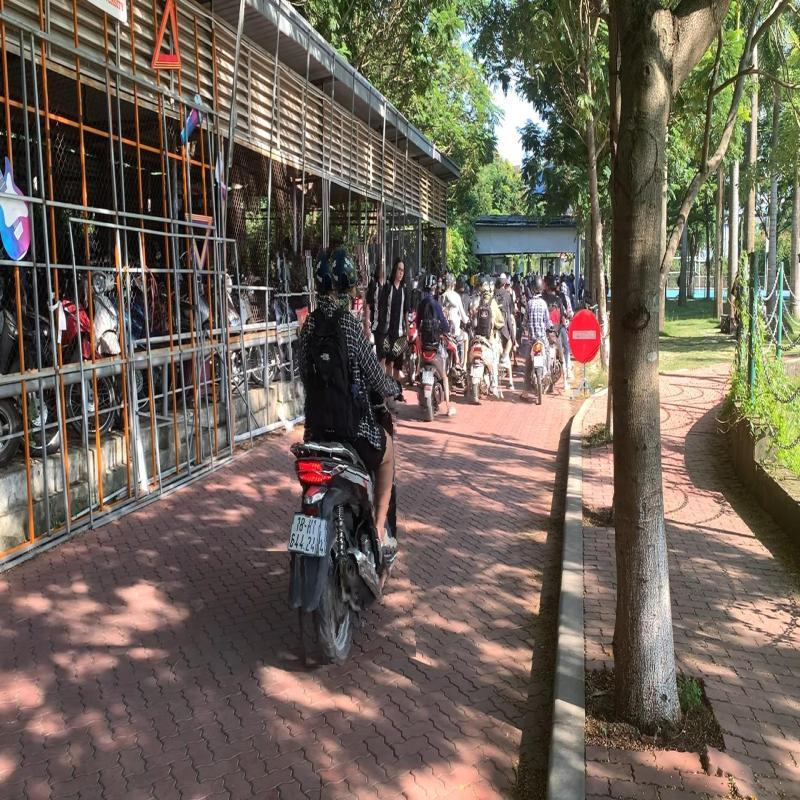helmet: (328, 245, 358, 300), (477, 276, 490, 294), (426, 275, 437, 295), (533, 276, 544, 296)
licenseplate: (288, 512, 321, 555), (422, 371, 433, 385), (473, 366, 484, 378), (534, 355, 544, 367)
motorcyclist: (280, 245, 408, 664), (416, 274, 456, 422), (466, 277, 508, 404), (521, 276, 553, 405)
